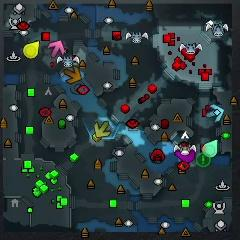Other: (196, 153, 210, 167)
p2: (202, 140, 218, 157)
p3: (174, 148, 196, 162)
p4: (24, 41, 40, 60)
x1: (49, 40, 65, 58)
x2: (94, 121, 110, 138)
x3: (206, 104, 224, 122)
x5: (64, 66, 82, 84)
